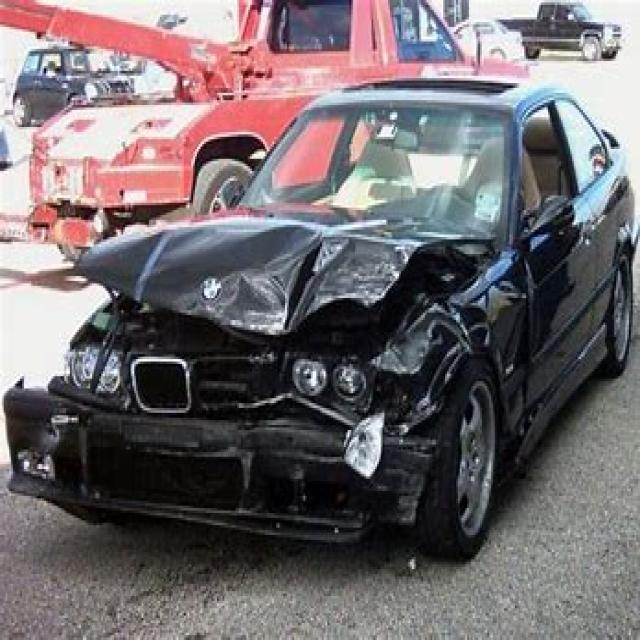Accident: (6, 12, 525, 496)
